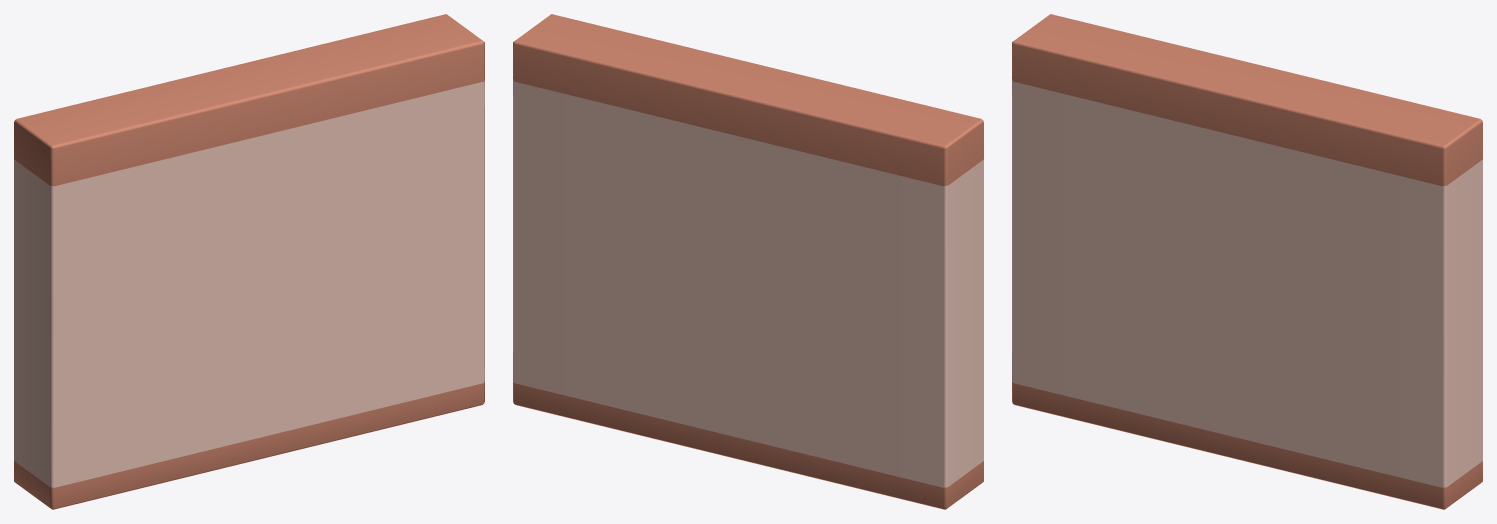
The model's file is Wall.fbx.
3 renders of one model, left to right at view 1: azimuth 30°, elevation 25°; view 2: azimuth 150°, elevation 25°; view 3: azimuth 330°, elevation 25°, orthographic.
Parts seen in each view (by area): view 1: Wall; view 2: Wall; view 3: Wall.
Part boxes in pixels (bbox=[...]): Wall: bbox=[14, 14, 484, 509]; Wall: bbox=[513, 14, 983, 509]; Wall: bbox=[1012, 14, 1482, 509].
Bounding box in the file's own units: 291 × 233 × 45.89.
